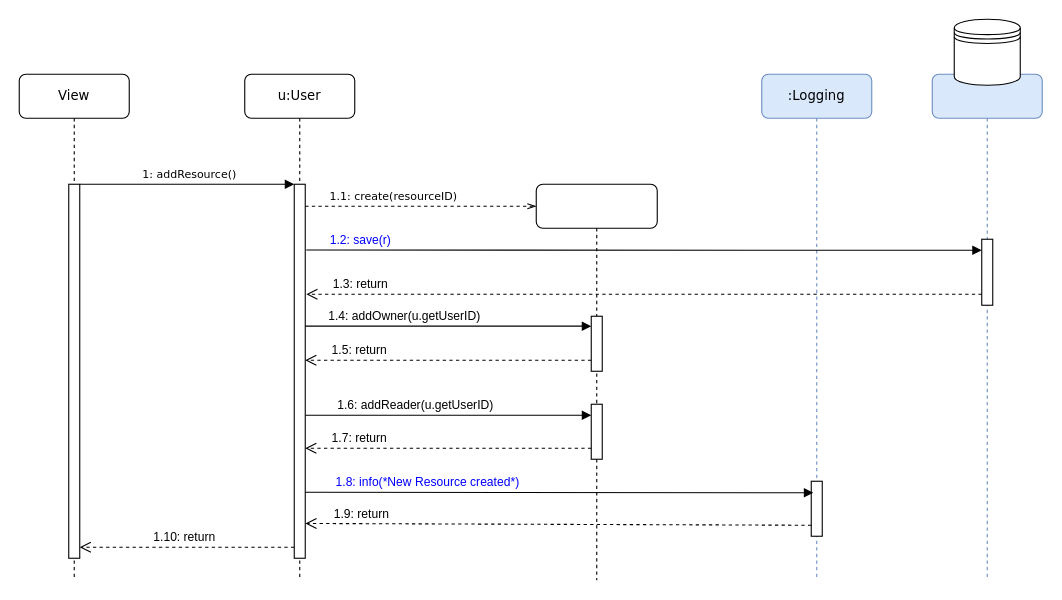
Some shapes in this 1062 by 600 pixel diagram are drawn without their labels. Here are the shapes that lost their labels. From the top down, the centre of each, then its label:
point (986, 326): Database
point (596, 381): r:Resource
